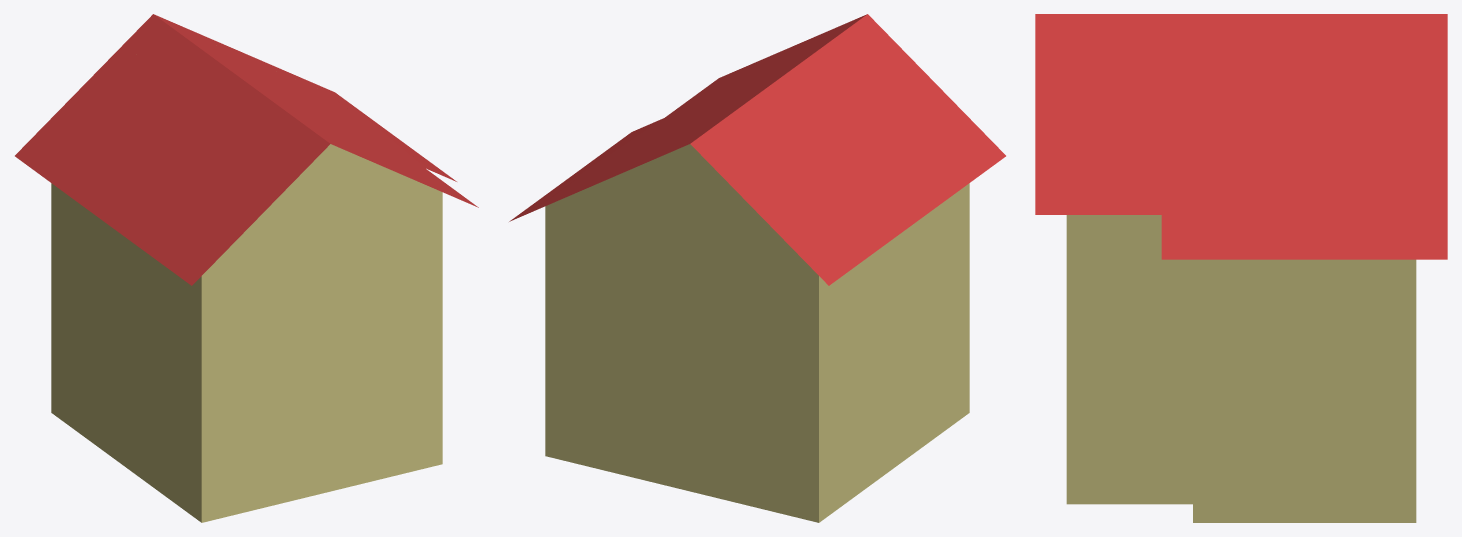
3 views of the same model, side by side, from view 1: azimuth 30°, elevation 25°; view 2: azimuth 150°, elevation 25°; view 3: azimuth 270°, elevation 25° (orthographic). The views are drawn at different scales.
Size of the model in its own units: 10.29 by 9.87 by 11.07.
